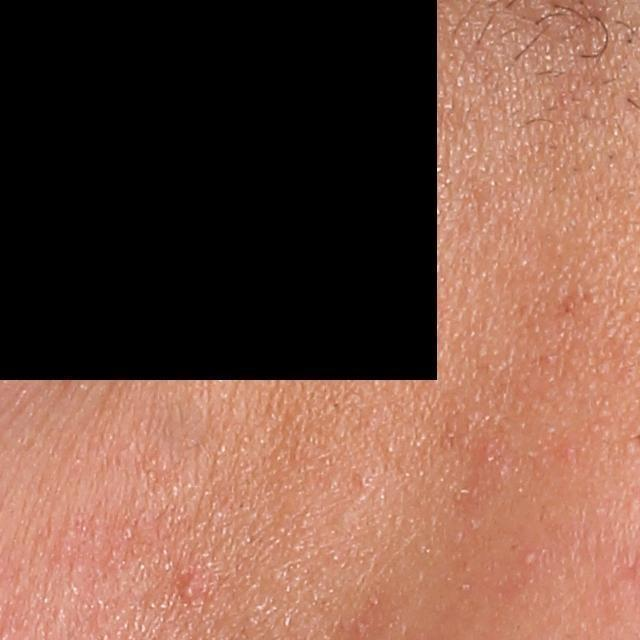comedo: (176, 574, 204, 602)
pustule: (522, 549, 539, 567)
